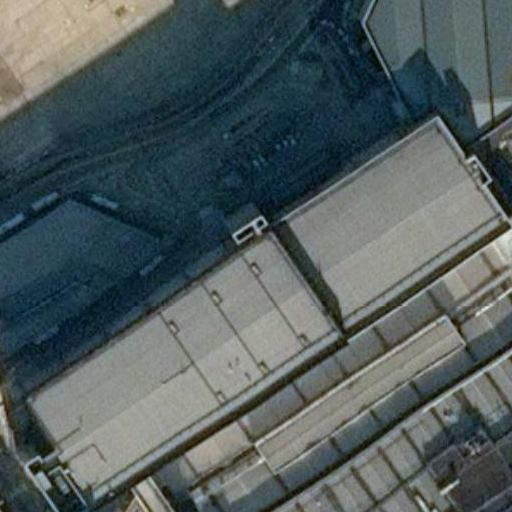Aircraft: (0, 43, 2, 173)
